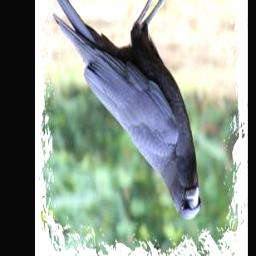Crow: (48, 0, 205, 222)
